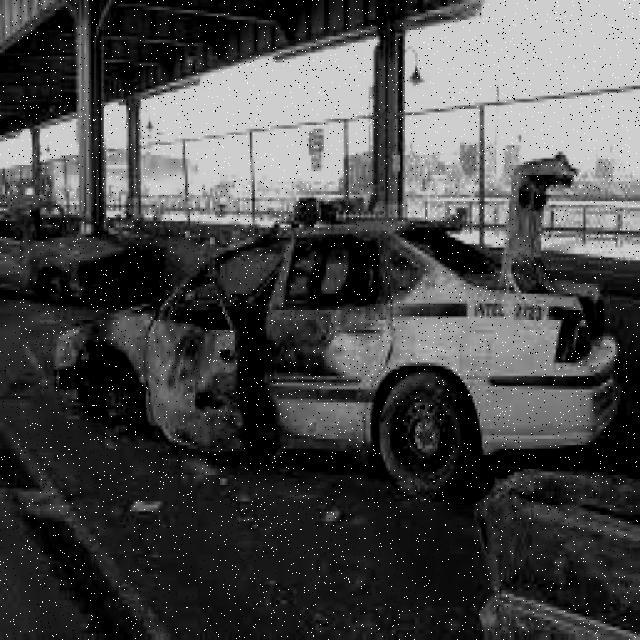car damage: (51, 216, 430, 454)
